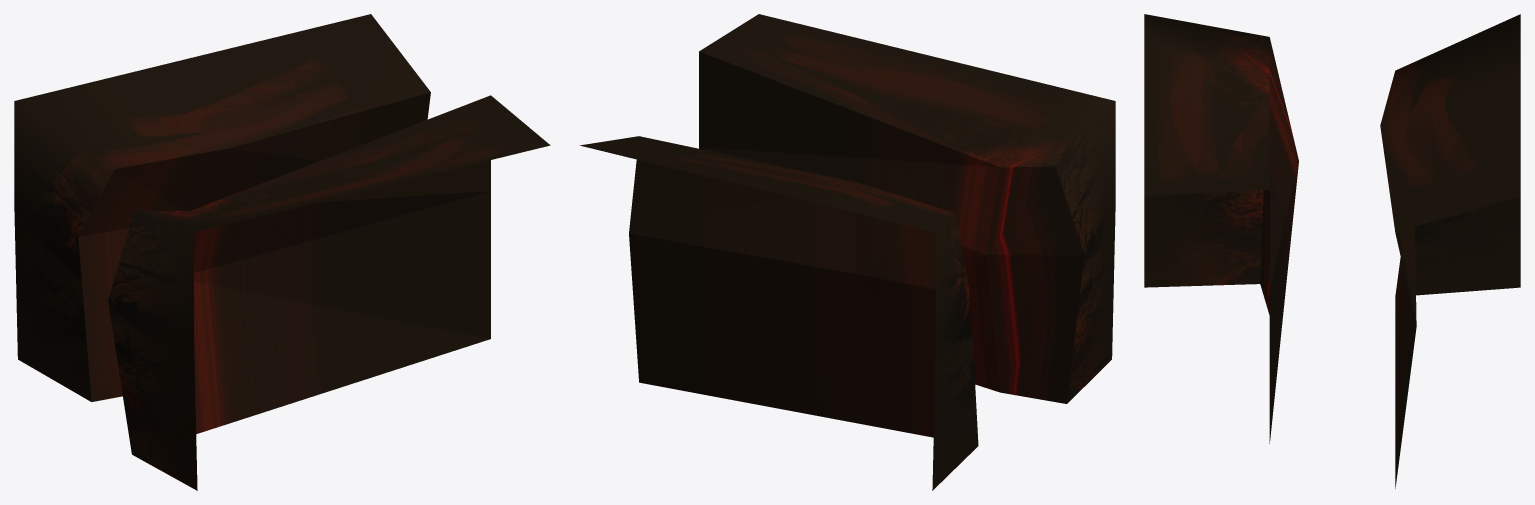
Rendered from TilesAcantilados.FBX.
The picture shows the model from 3 angles, left to right: view 1: azimuth 30°, elevation 25°; view 2: azimuth 150°, elevation 25°; view 3: azimuth 270°, elevation 25°; orthographic projection. The views are drawn at different scales.
Parts seen in each view (by area): view 1: Object002, Object001; view 2: Object002, Object001; view 3: Object002, Object001.
Part boxes in pixels (x1,y1,x2,y2): Object002: (108,95,550,490); Object001: (14,14,430,401); Object002: (699,14,1115,403); Object001: (579,136,978,490); Object002: (1144,14,1298,443); Object001: (1380,14,1520,488).
Size of the model in its own units: 494 by 353 by 400.
Materials: 1 (1 with a texture image).
